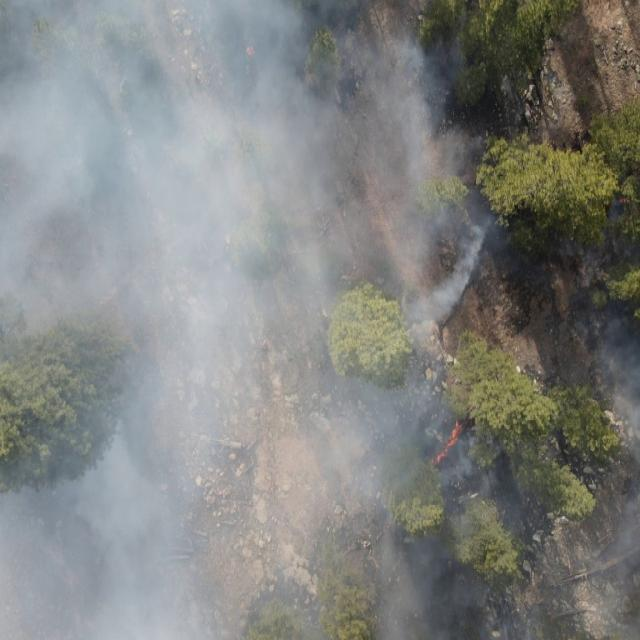fire: (430, 418, 469, 470), (244, 43, 258, 61)
smoke: (0, 0, 486, 640), (486, 214, 640, 640)
